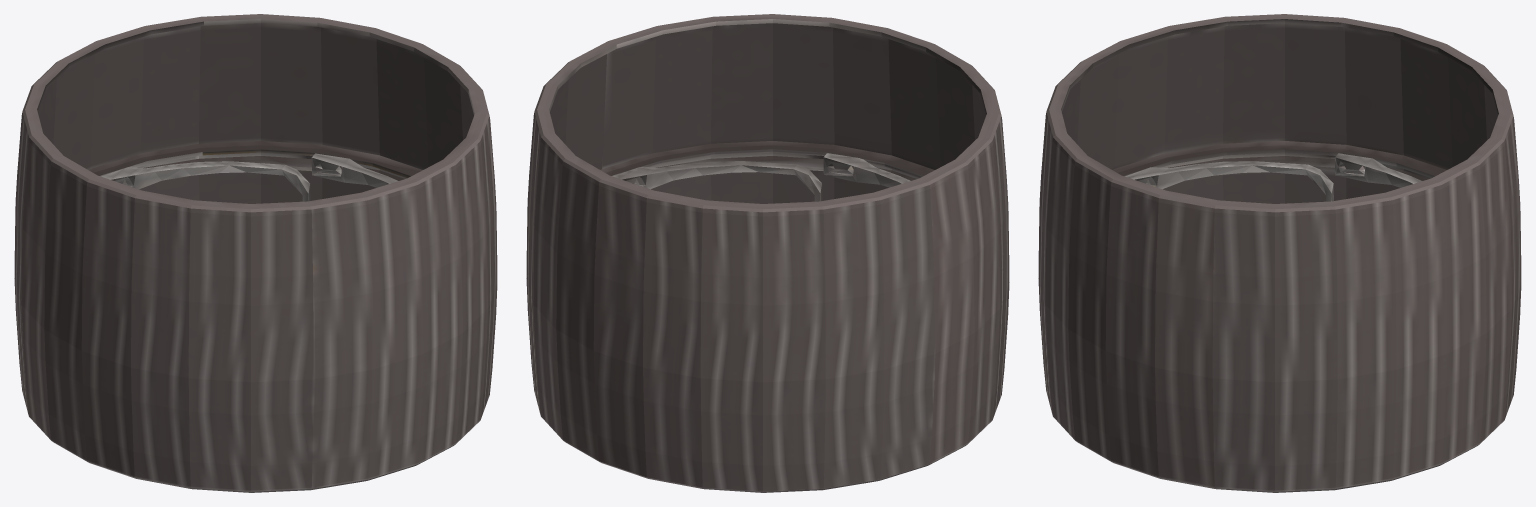
Rendered from wheel_rf.obj.
3 renders of one model, left to right at view 1: azimuth 30°, elevation 25°; view 2: azimuth 150°, elevation 25°; view 3: azimuth 270°, elevation 25°, orthographic.
Size of the model in its own units: 0.5098 by 0.3306 by 0.5098.
1 material, 1 textured.
